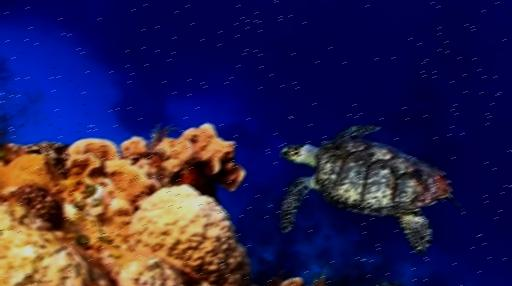Fish: (280, 125, 462, 253)
